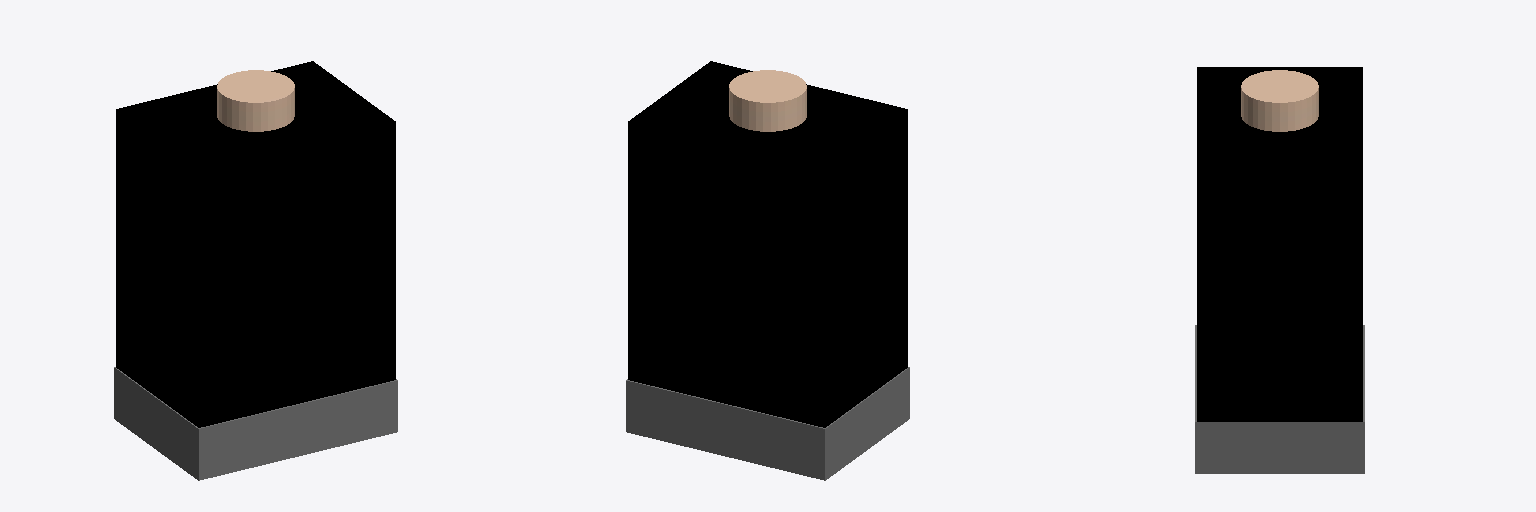
3 renders of one model, left to right at view 1: azimuth 30°, elevation 25°; view 2: azimuth 150°, elevation 25°; view 3: azimuth 270°, elevation 25°, orthographic.
Visible parts, largest first — view 1: 立方體, 立方體.006, 圓柱體; view 2: 立方體, 立方體.006, 圓柱體; view 3: 立方體, 立方體.006, 圓柱體.
Boxes of the visible parts, x1=… form: 立方體: x1=116, y1=61, x2=395, y2=427; 立方體.006: x1=114, y1=367, x2=397, y2=480; 圓柱體: x1=217, y1=70, x2=294, y2=131; 立方體: x1=628, y1=61, x2=907, y2=427; 立方體.006: x1=626, y1=367, x2=909, y2=480; 圓柱體: x1=729, y1=70, x2=806, y2=131; 立方體: x1=1197, y1=67, x2=1362, y2=421; 立方體.006: x1=1195, y1=325, x2=1364, y2=473; 圓柱體: x1=1241, y1=70, x2=1318, y2=131.
Size of the model in its own units: 1.77 by 2.87 by 1.3.
Materials: 3 (1 with a texture image).